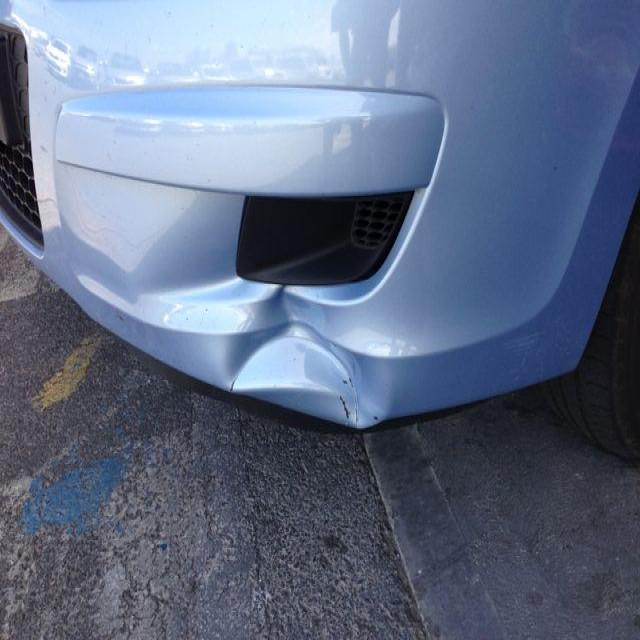dent: (213, 284, 397, 430)
scratch: (338, 376, 359, 424), (229, 373, 238, 392)
